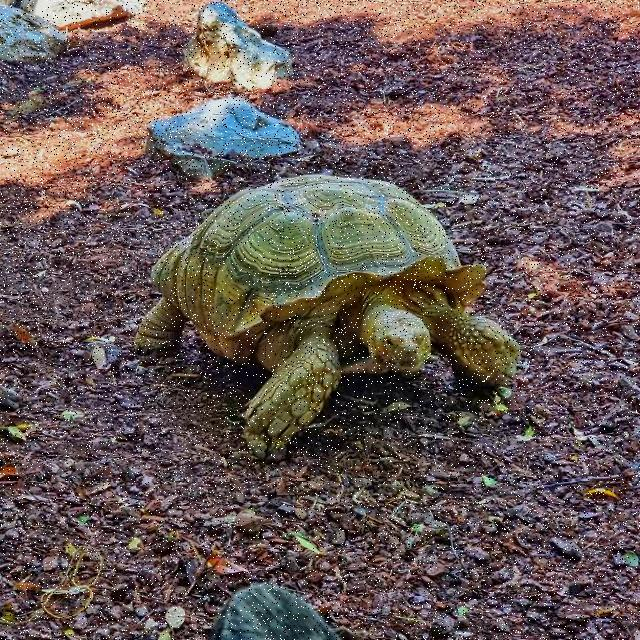tortoise: (129, 176, 537, 458)
